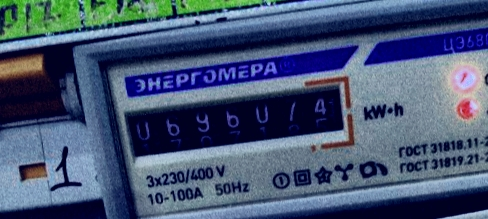0: (129, 115, 151, 141), (250, 98, 269, 125)
4: (308, 91, 326, 115)
5: (312, 116, 330, 132)
6: (221, 102, 241, 130), (161, 111, 181, 137)
7: (280, 95, 300, 122)
9: (191, 107, 210, 134)
screen: (111, 70, 358, 169)
